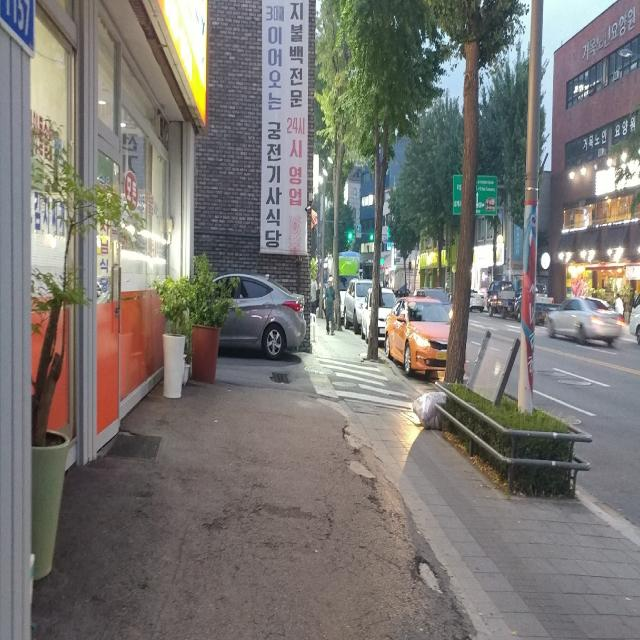횡단보도: (316, 356, 414, 409)
